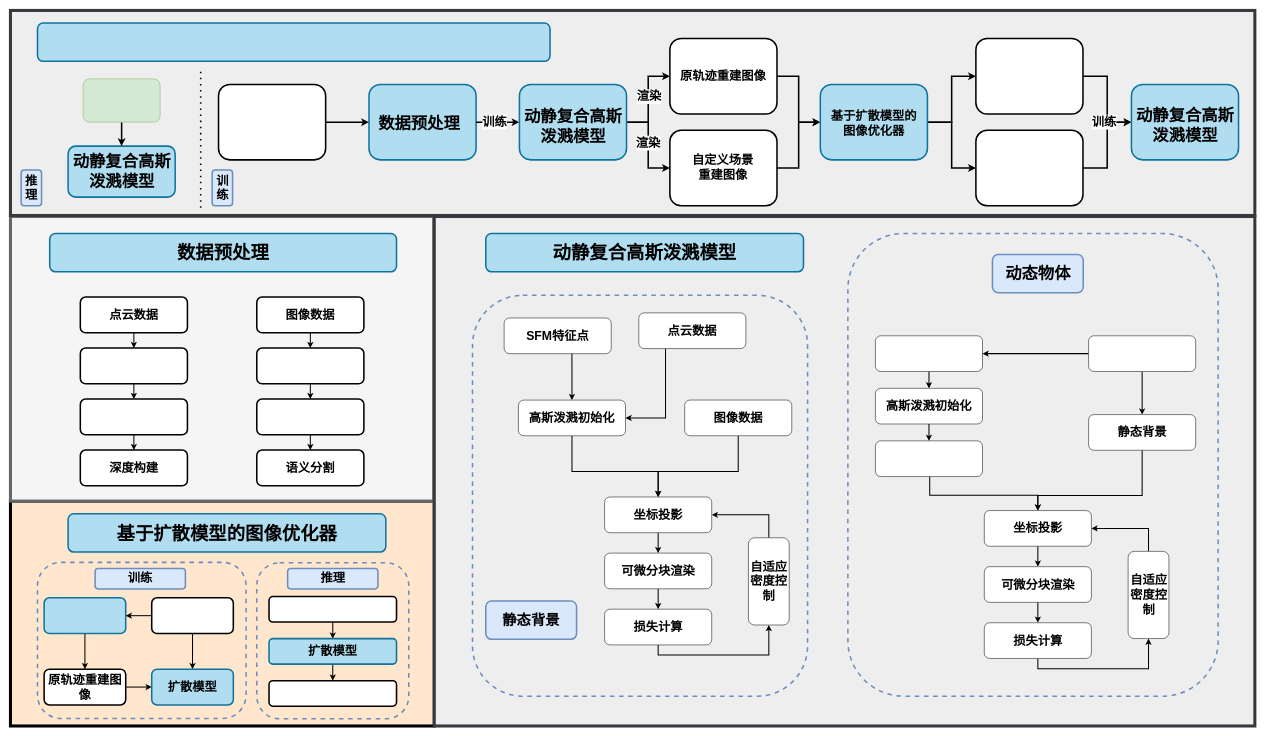
Some shapes in this 1265 by 736 pixel diagram are drawn without their labels. Here are the shapes that lost their labels. From the top down, the box of each, then its label:
(36, 22, 551, 62): 自动驾驶场景三维重建 技术路线
(975, 37, 1083, 114): 优化后的原轨迹图像
(83, 78, 160, 122): 主车/交通参与者轨迹
(218, 83, 326, 160): 数据输入
(975, 129, 1083, 206): 优化后的自定义场景图像
(79, 347, 188, 384): 动态物体去除
(256, 347, 364, 384): 去畸变
(875, 335, 983, 371): 动态物体信息
(1088, 335, 1196, 371): 场景分区
(79, 398, 188, 435): 拼接
(256, 398, 364, 435): 裁剪
(875, 440, 983, 477): 坐标变换
(43, 597, 126, 634): 未充分训练的高斯泼溅模型
(151, 597, 234, 634): 原轨迹数据
(268, 596, 397, 623): 未修复自定义场景图像
(268, 680, 397, 707): 修复的自定义场景图像
